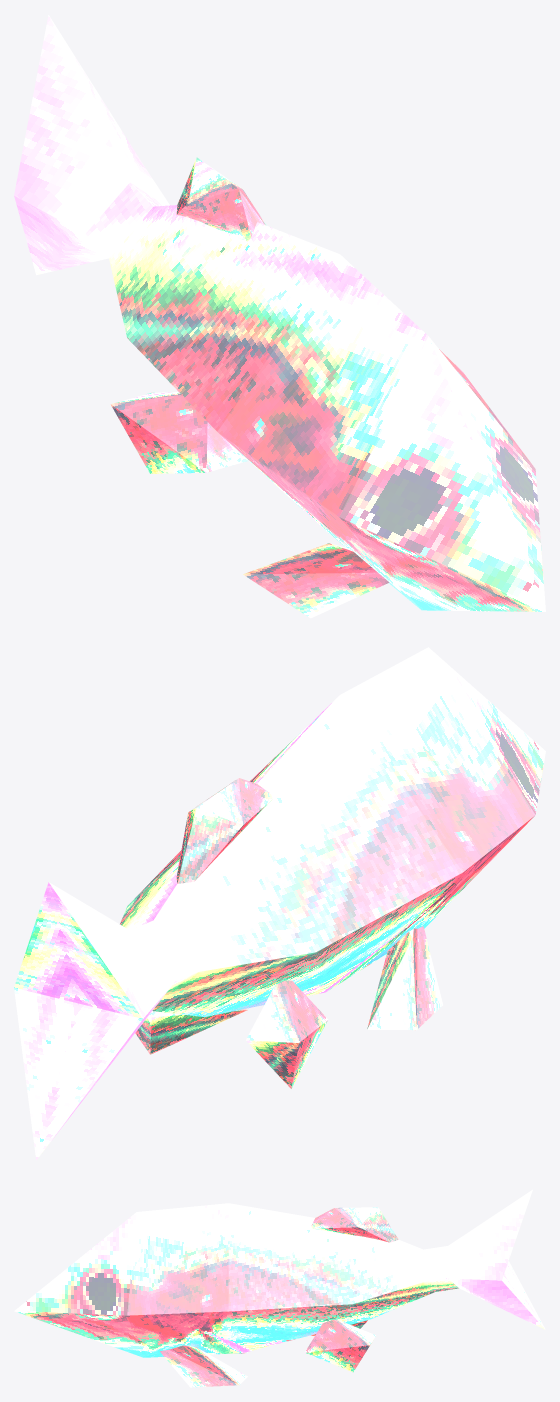
Rendered from medFish_1.glb.
3 renders of one model, top to bottom at view 1: azimuth 30°, elevation 25°; view 2: azimuth 150°, elevation 25°; view 3: azimuth 270°, elevation 25°, orthographic. The views are drawn at different scales.
Visible parts, largest first — view 1: medFish_1; view 2: medFish_1; view 3: medFish_1.
Part boxes in pixels (x1,y1,x2,y2): medFish_1: (14,15,545,618); medFish_1: (14,647,545,1160); medFish_1: (14,1189,545,1387).
Bounding box in the file's own units: 0.7171 × 0.9689 × 2.58.
